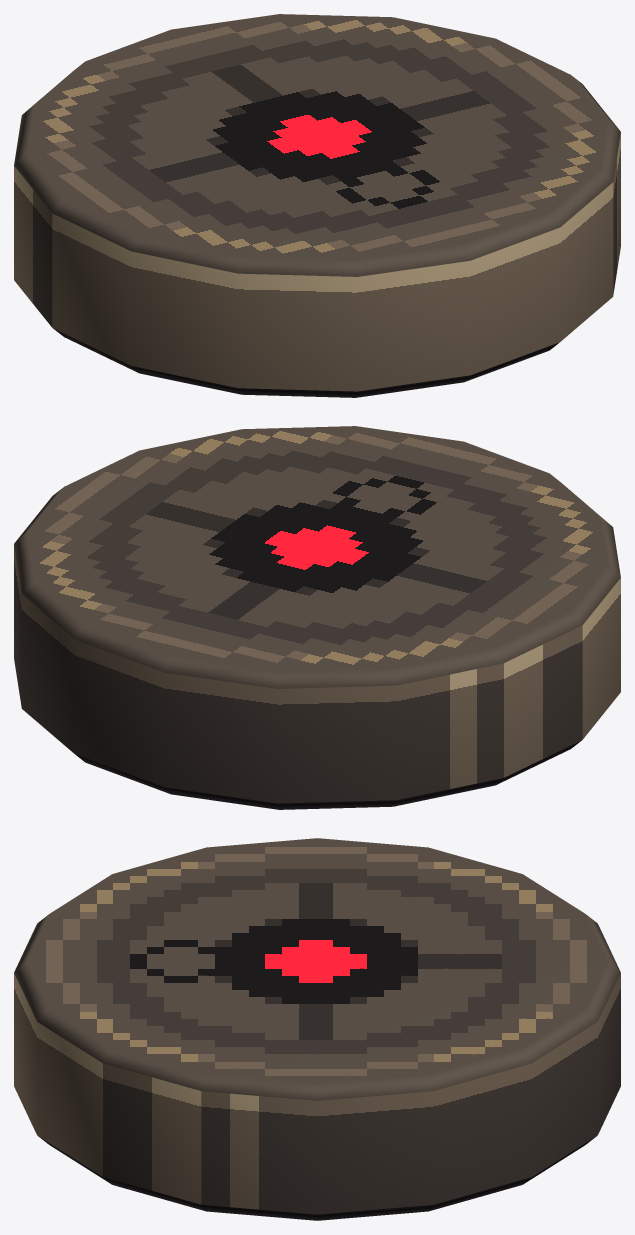
File: Mine.fbx
The picture shows the model from 3 angles, top to bottom: view 1: azimuth 30°, elevation 25°; view 2: azimuth 150°, elevation 25°; view 3: azimuth 270°, elevation 25°; orthographic projection.
Visible parts, largest first — view 1: Cylinder; view 2: Cylinder; view 3: Cylinder.
Boxes of the visible parts, box(x1,y1,x2,y2) form: Cylinder: box(14, 14, 620, 397); Cylinder: box(14, 426, 620, 809); Cylinder: box(14, 838, 620, 1220).
Bounding box in the file's own units: 80 × 20 × 80.
1 material, 1 textured.
